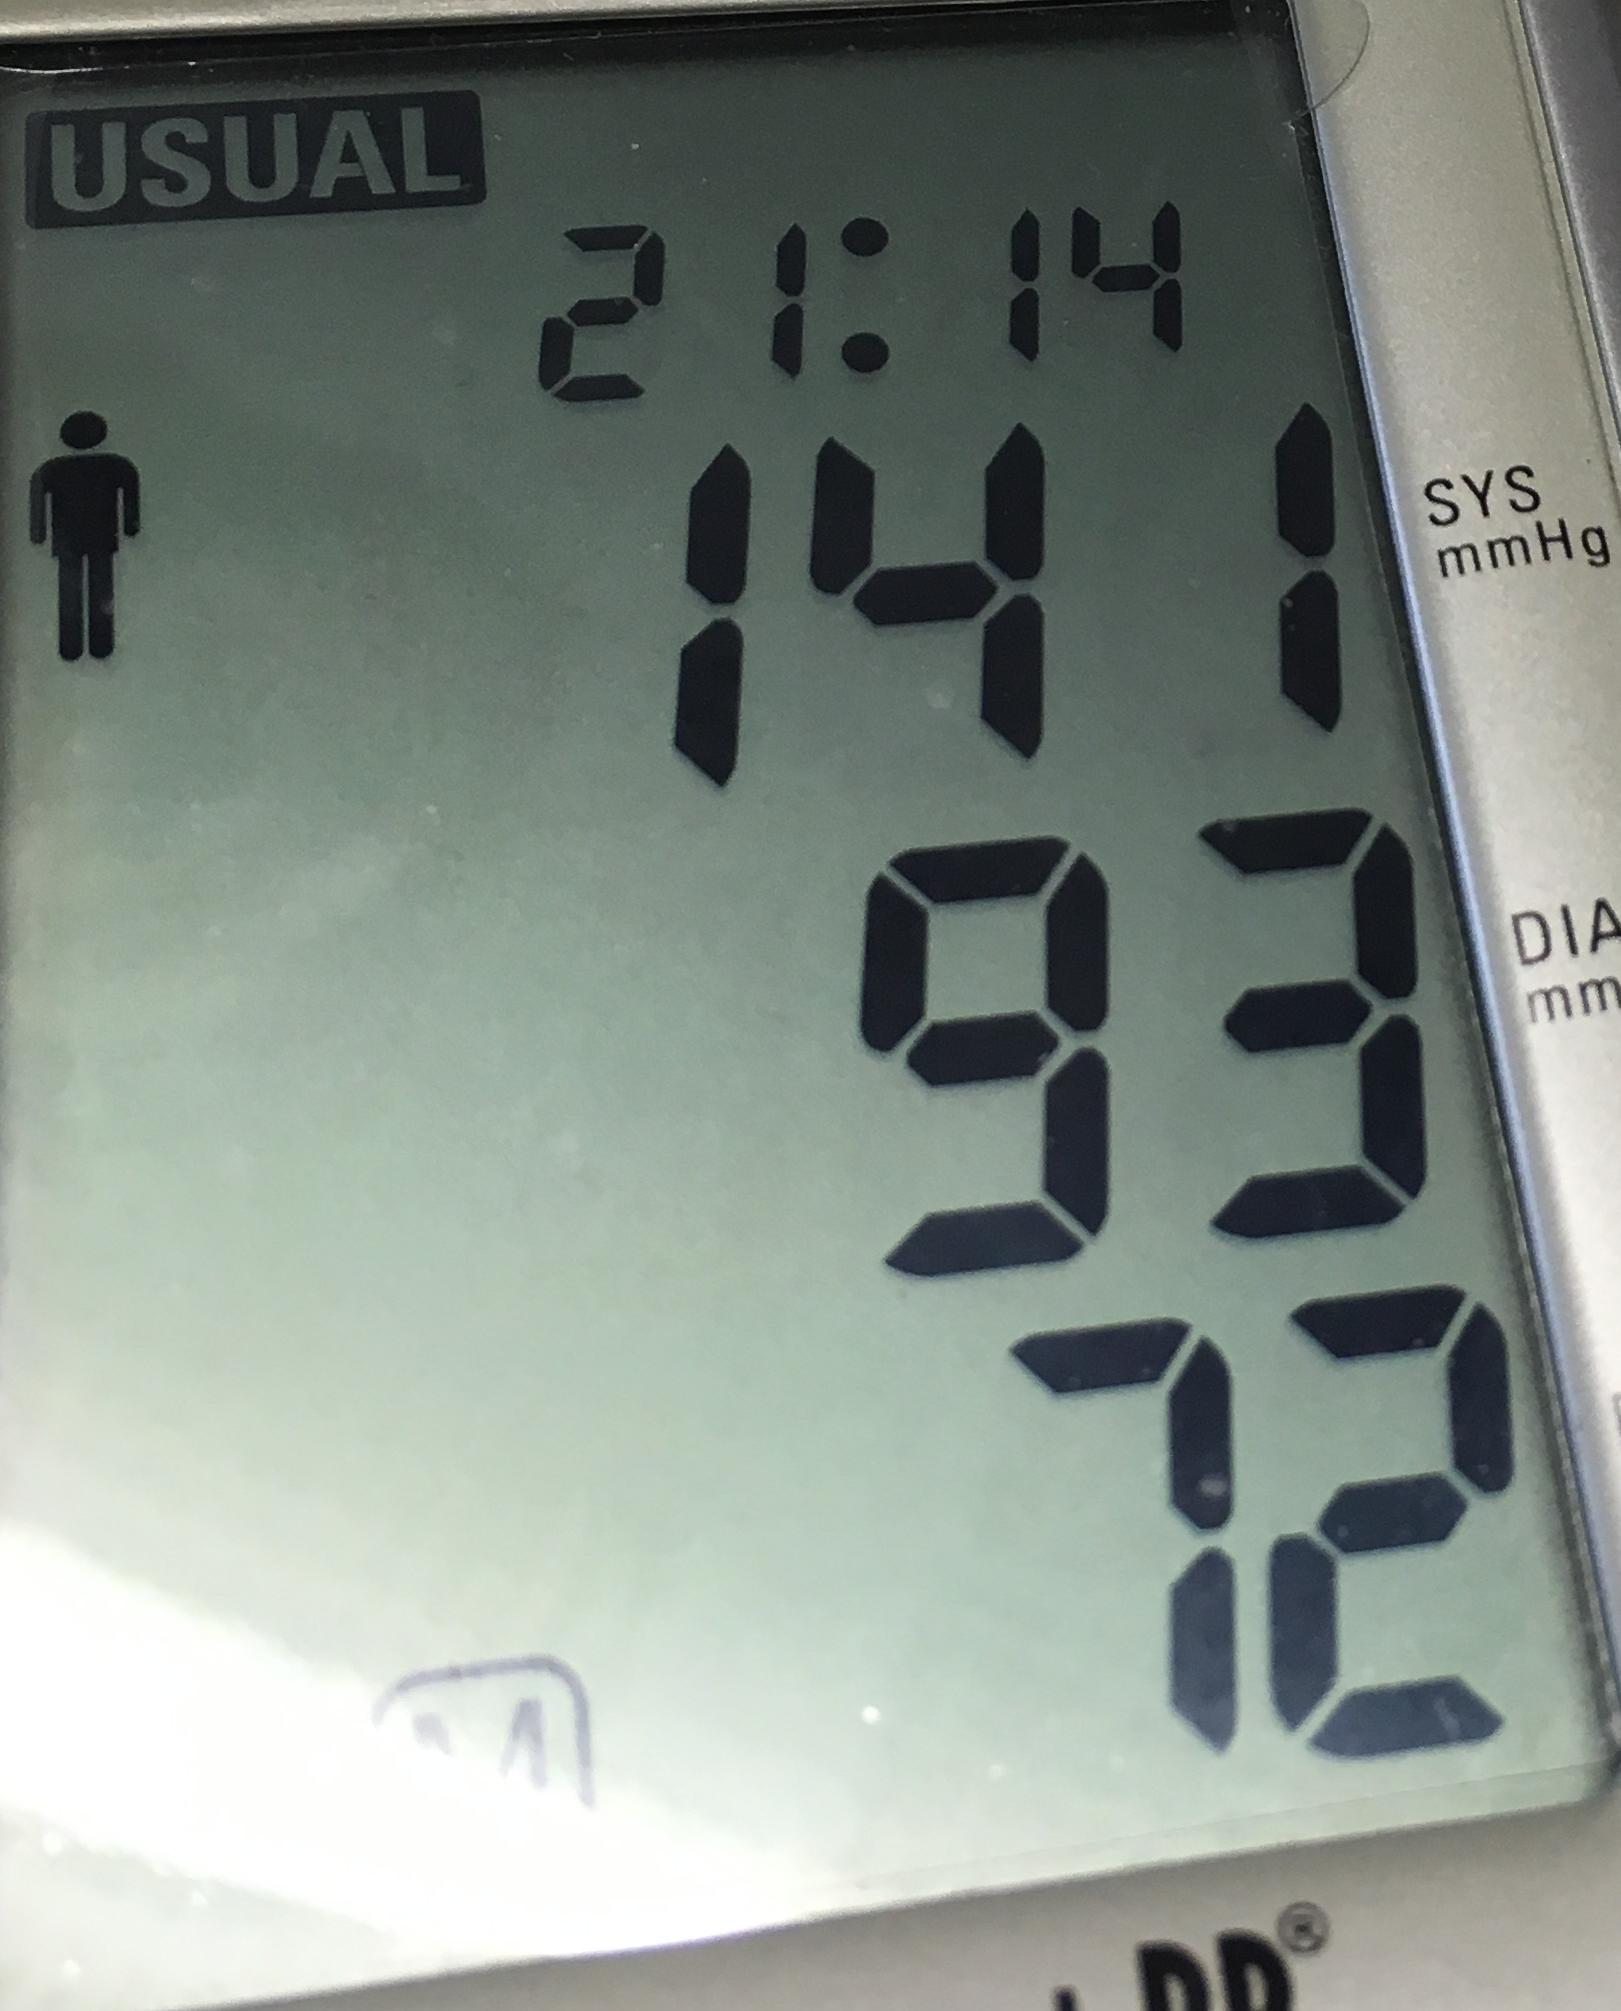141: (652, 377, 1391, 820)
21-14: (533, 169, 1211, 438)
72: (1002, 1277, 1532, 1784)
93: (857, 787, 1441, 1308)
